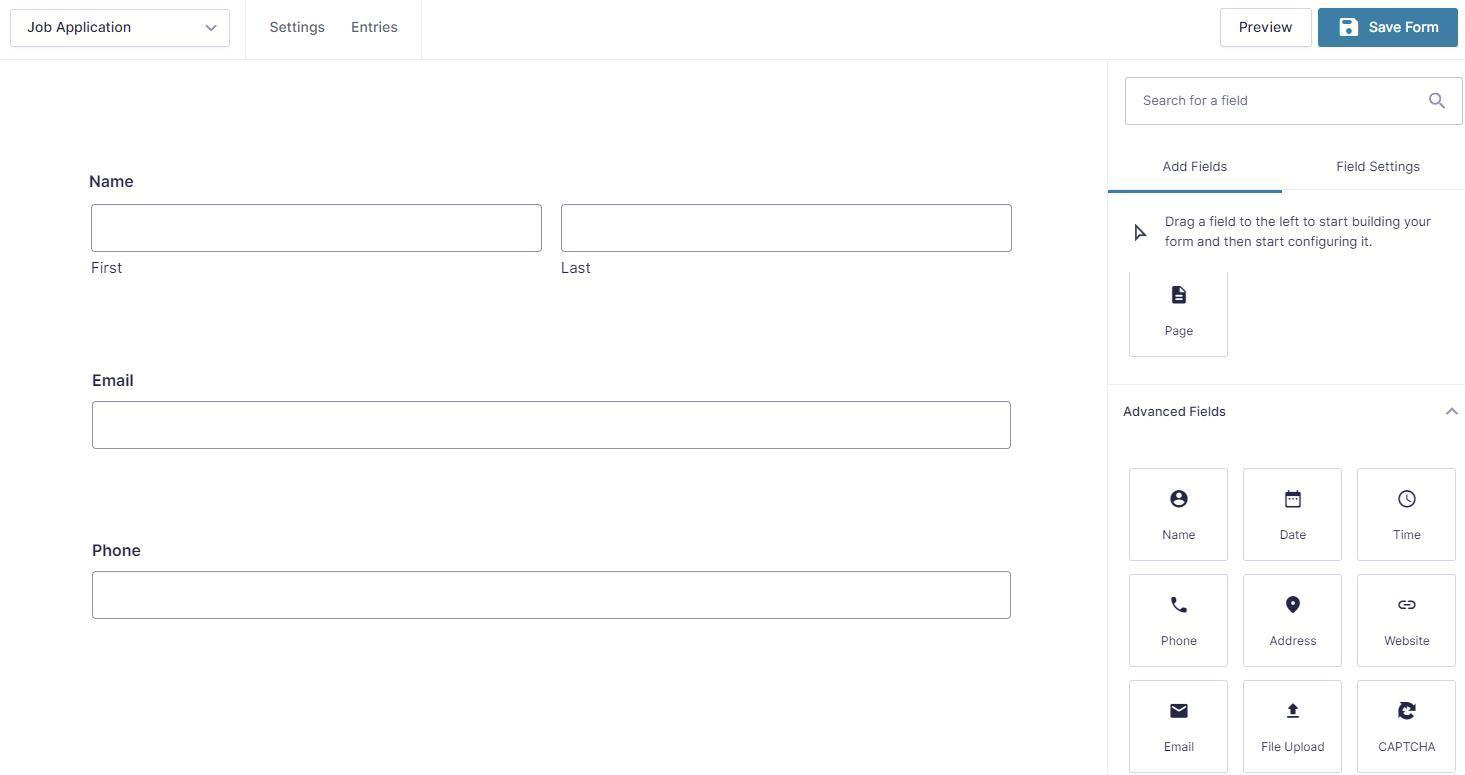button: (1318, 7, 1460, 49), (1219, 7, 1315, 48)
dropdown: (7, 8, 233, 50)
icon: (1425, 86, 1450, 116), (1398, 701, 1420, 722), (1170, 284, 1190, 305), (1398, 489, 1418, 509), (1170, 702, 1191, 721), (1170, 490, 1190, 509), (1284, 490, 1303, 510), (1131, 223, 1149, 244), (1170, 598, 1190, 615), (1286, 595, 1302, 614), (1288, 703, 1301, 720), (1398, 600, 1418, 610)
input: (94, 571, 1008, 622), (92, 403, 1013, 453), (92, 204, 544, 256), (560, 204, 1014, 255), (1123, 74, 1465, 128)
label: (1163, 215, 1435, 249), (1334, 159, 1424, 176), (1157, 159, 1234, 175), (1258, 741, 1327, 755), (90, 542, 142, 560), (87, 171, 136, 190), (1380, 634, 1435, 650), (1377, 741, 1439, 754), (1156, 527, 1201, 544), (1267, 636, 1320, 649), (91, 373, 134, 389), (1159, 634, 1203, 648), (1158, 324, 1197, 338), (1390, 528, 1424, 544), (1278, 528, 1312, 542), (1162, 741, 1198, 753)
